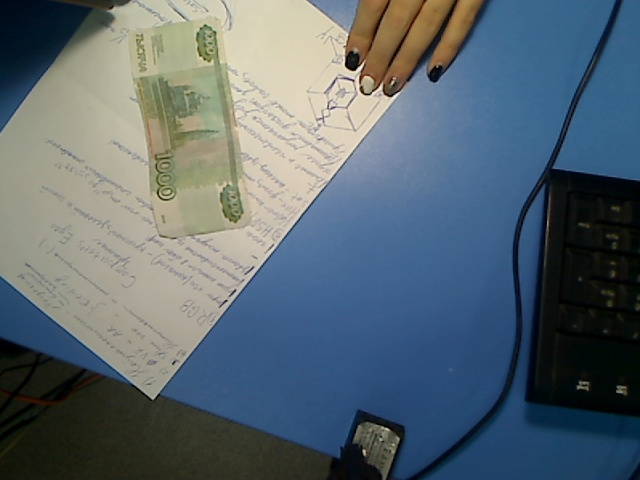banknotes: (128, 14, 254, 242)
